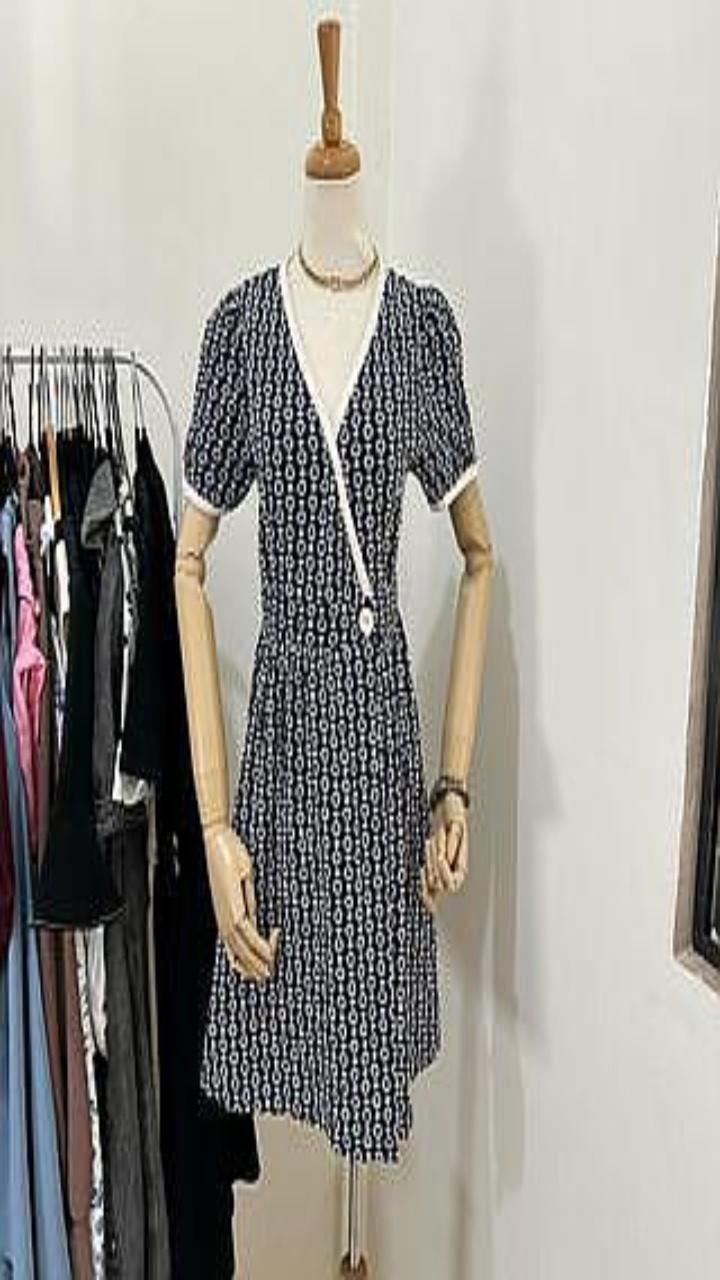Dresses: (184, 261, 477, 1160)
